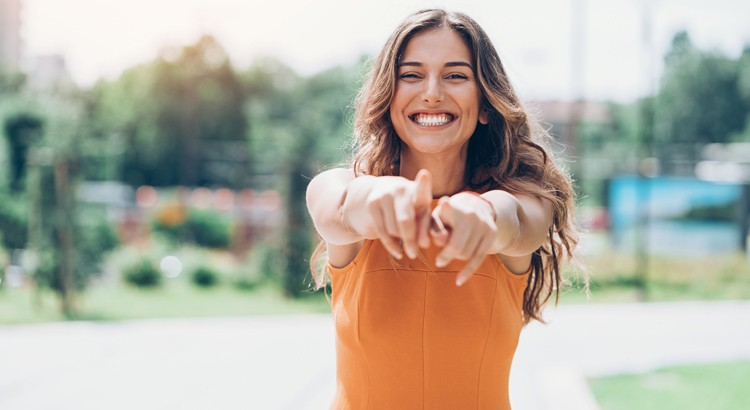without_mask: (396, 57, 472, 135)
